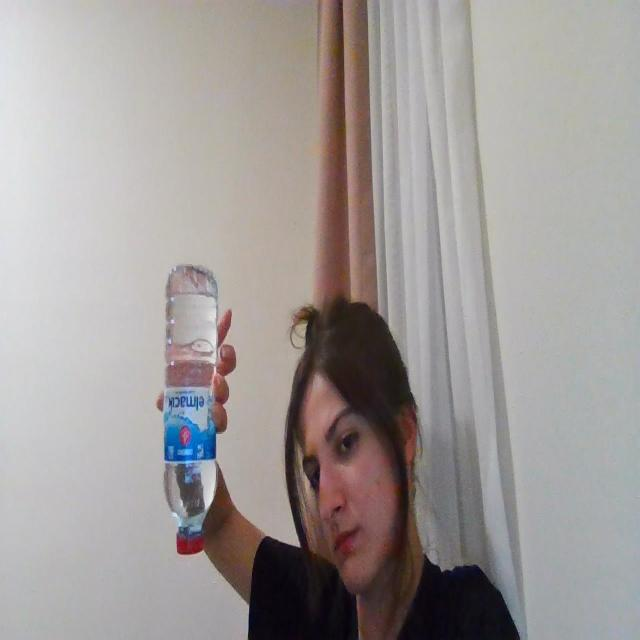bottle: (164, 266, 220, 554)
